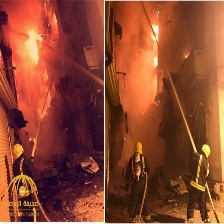fire: (22, 29, 43, 65), (146, 24, 161, 70)
smoke: (19, 68, 72, 150), (125, 75, 174, 154)
